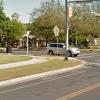Car: (42, 37, 78, 59)
